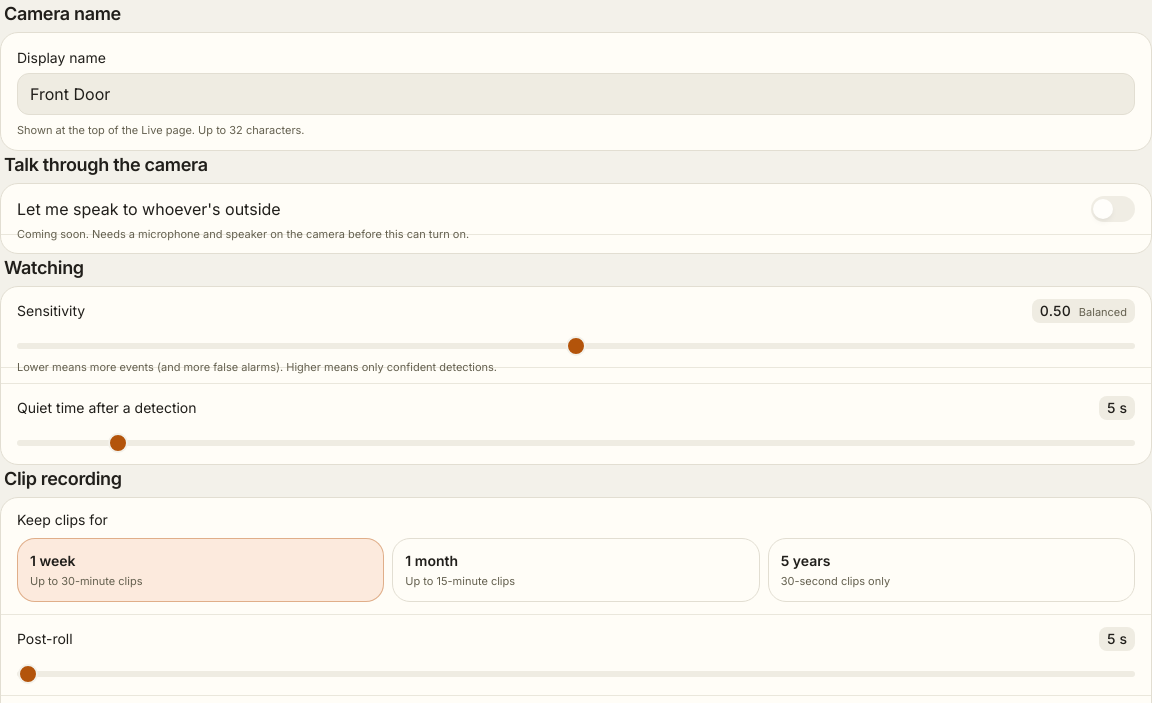
it: DetectionSection › Given pre-roll exceeds a shorter preset ceiling, When the preset changes, Then the displayed pre-roll value is clamped
Click the radio button labelled "1 month Up to 15-minute clips" at (432,560), box [392,538,760,602]
(page scrolled)
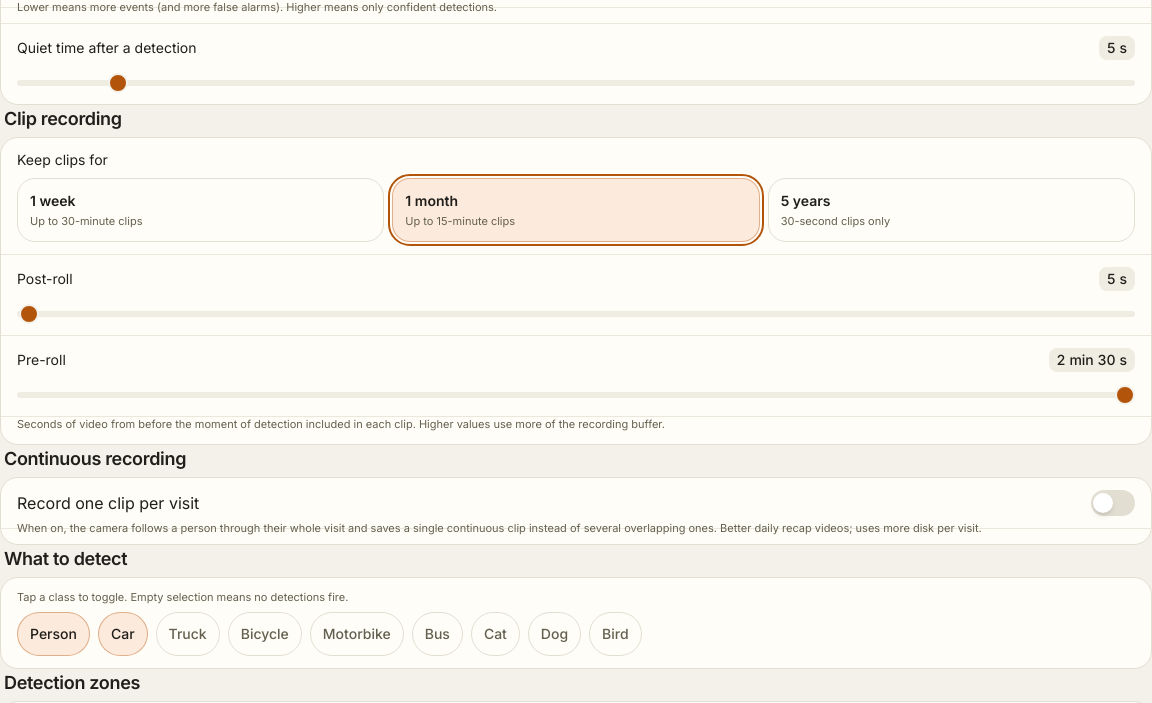
Now the text "2 min 30 s" is shown, box [1049,348,1135,372]
